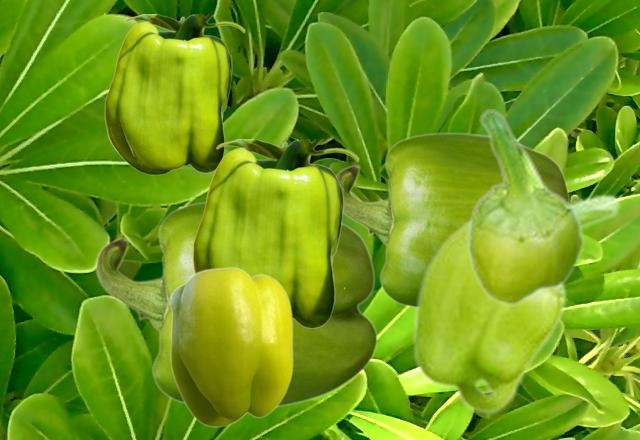bell_pepper: (95, 200, 377, 408), (411, 192, 621, 414), (336, 132, 570, 308), (192, 139, 358, 329), (466, 109, 584, 305), (104, 14, 244, 174), (168, 266, 292, 426)
